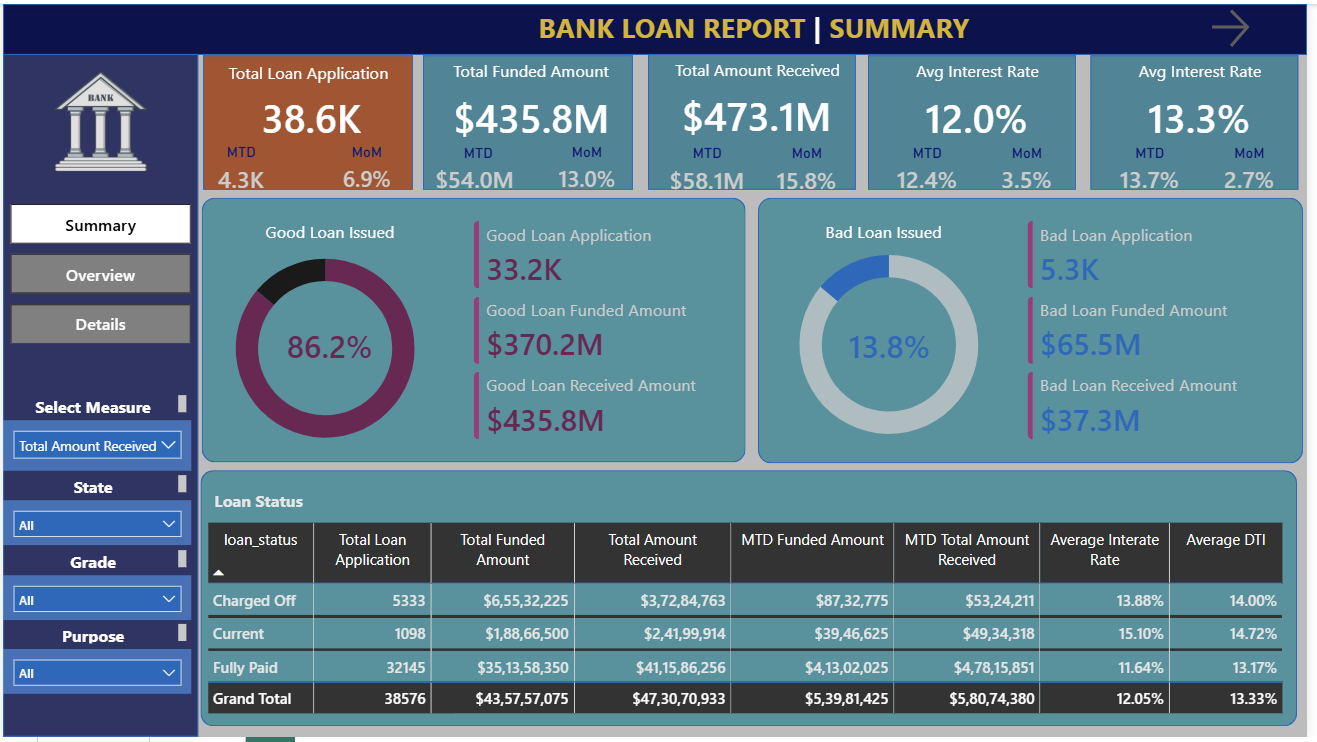

The dashboard page shown, as its layout file describes it:
{"tool":"powerbi","page":{"name":"Summary","canvas":[1280,720],"ordinal":0},"visuals":[{"type":"shape","box":[633.2,49.1,204.1,133.2],"z":0,"group":"g5"},{"type":"shape","box":[412.2,50,206,132.3],"z":0,"group":"g1"},{"type":"shape","box":[849.4,50,204.1,132.3],"z":0,"group":"g6"},{"type":"shape","box":[195.9,50.3,206.1,132.3],"z":0,"group":"g2"},{"type":"shape","box":[1068,51,204.1,132.3],"z":0,"group":"g7"},{"type":"shape","box":[193.9,457.9,1076.4,251.4],"z":0},{"type":"textbox","box":[0,458.1,184.8,29.2],"z":0,"group":"g8"},{"type":"textbox","box":[0,531.1,184.8,29.2],"z":0,"group":"g10"},{"type":"textbox","box":[0,604,184.8,29.2],"z":0,"group":"g9"},{"type":"shape","box":[0,0,1280,50],"z":1000},{"type":"cardVisual","fields":{"Data":["bank_loan_data.Total Amount Received"]},"box":[648.5,81,184.4,54.9],"z":1000,"group":"g5"},{"type":"cardVisual","fields":{"Data":["bank_loan_data.Total Funded Amount"]},"box":[425.7,81.7,186.1,54.5],"z":1000,"group":"g1"},{"type":"cardVisual","fields":{"Data":["bank_loan_data.Average Interate Rate"]},"box":[864.7,81.7,184.4,54.5],"z":1000,"group":"g6"},{"type":"cardVisual","fields":{"Data":["bank_loan_data.Total Loan Application"]},"box":[209.4,82,186.2,54.5],"z":1000,"group":"g2"},{"type":"cardVisual","fields":{"Data":["bank_loan_data.Average DTI"]},"box":[1083.3,82.7,184.4,54.5],"z":1000,"group":"g7"},{"type":"slicer","fields":{"Values":["bank_loan_data.address_state"]},"box":[0,487.3,184.8,43.8],"z":1000,"group":"g8"},{"type":"slicer","fields":{"Values":["bank_loan_data.grade"]},"box":[0,560.3,184.8,43.8],"z":1000,"group":"g10"},{"type":"slicer","fields":{"Values":["bank_loan_data.purpose"]},"box":[0,633.2,184.8,43.8],"z":1000,"group":"g9"},{"type":"textbox","box":[636.7,47.7,208.1,33.3],"z":2000,"group":"g5"},{"type":"textbox","box":[413.7,48.6,210,33.1],"z":2000,"group":"g1"},{"type":"textbox","box":[852.9,48.6,208.1,33.1],"z":2000,"group":"g6"},{"type":"textbox","box":[1071.5,49.6,208.1,33.1],"z":2000,"group":"g7"},{"type":"textbox","box":[202.8,50.9,192.6,36],"z":2000,"group":"g2"},{"type":"shape","box":[195.5,190.6,534,259.7],"z":2000},{"type":"shape","box":[0,49.6,191.6,670.2],"z":3000},{"type":"cardVisual","title":"MTD ","fields":{"Data":["bank_loan_data.MTD Loan Application"]},"box":[197.4,136.5,72.7,45.7],"z":3000,"group":"g2"},{"type":"cardVisual","title":"MTD ","fields":{"Data":["bank_loan_data.MTD Total Amount Received"]},"box":[640,137.2,101.6,45.1],"z":3000,"group":"g5"},{"type":"cardVisual","title":"MTD ","fields":{"Data":["bank_loan_data.MTD Funded Amount"]},"box":[412.4,137.5,108.5,44.7],"z":3000,"group":"g1"},{"type":"cardVisual","title":"MTD ","fields":{"Data":["bank_loan_data.MTD Average Int Rate"]},"box":[856.2,137.5,101.6,44.7],"z":3000,"group":"g6"},{"type":"cardVisual","title":"MTD ","fields":{"Data":["bank_loan_data.MTD Average DTI"]},"box":[1074.8,138.5,101.6,44.7],"z":3000,"group":"g7"},{"type":"cardVisual","title":"MoM","fields":{"Data":["bank_loan_data.MoM Total Funded Amount"]},"box":[535.1,136.1,76.6,45.7],"z":4000,"group":"g1"},{"type":"cardVisual","title":"MoM","fields":{"Data":["bank_loan_data.MoM loan Application"]},"box":[318.9,136.5,76.7,45.7],"z":4000,"group":"g2"},{"type":"cardVisual","title":"MoM","fields":{"Data":["bank_loan_data.MoM Total Amount Received"]},"box":[744.6,137.2,88.7,45.1],"z":4000,"group":"g5"},{"type":"cardVisual","title":"MoM","fields":{"Data":["bank_loan_data.MoM Avg Int Rate"]},"box":[960.8,137.5,88.7,44.7],"z":4000,"group":"g6"},{"type":"cardVisual","title":"MoM","fields":{"Data":["bank_loan_data.MoM Avg DTI"]},"box":[1179.4,138.5,88.7,44.7],"z":4000,"group":"g7"},{"type":"cardVisual","fields":{"Data":["bank_loan_data.Good Loan %"]},"box":[259.7,308.3,121.6,51.6],"z":4000},{"type":"textbox","box":[215.9,207.2,210.1,33.1],"z":5000},{"type":"textbox","box":[193.6,0,1086.4,49.6],"z":6000},{"type":"group","id":"g1","title":"Group 2","box":[412.2,48.6,211.5,133.6],"z":6503,"group":"g4"},{"type":"group","id":"g2","title":"Group 2","box":[195.9,50.3,206.1,132.3],"z":6503,"group":"g3"},{"type":"group","id":"g3","title":"Group 1","box":[195.9,50.3,206.1,132.3],"z":7000},{"type":"group","id":"g4","title":"Group 1","box":[412.2,48.6,212,133.3],"z":8000},{"type":"group","id":"g5","title":"Group 2","box":[633.2,47.7,212,134.2],"z":9000},{"type":"group","id":"g6","title":"Group 2","box":[849.4,48.6,212,134.2],"z":10000},{"type":"tableEx","fields":{"Values":["bank_loan_data.loan_status","bank_loan_data.Total Loan Application","bank_loan_data.Total Funded Amount","bank_loan_data.Total Amount Received","bank_loan_data.MTD Funded Amount","bank_loan_data.MTD Total Amount Received","bank_loan_data.Average Interate Rate","bank_loan_data.Average DTI"]},"box":[195.5,504.8,1068.9,197.4],"z":11000},{"type":"group","id":"g7","title":"Group 2","box":[1068,49.6,212,134.2],"z":12000},{"type":"shape","box":[741.2,190.6,535,260.7],"z":13000},{"type":"slicer","fields":{"Values":["Select Measure.Select Measure"]},"box":[0,408.5,184.8,49.6],"z":13000,"group":"g11"},{"type":"donutChart","fields":{"Category":["bank_loan_data.Good Vs Bad Loan"],"Y":["bank_loan_data.Total Loan Application"]},"box":[191.6,223.7,250,229.5],"z":14000},{"type":"textbox","box":[0,379.3,184.8,29.2],"z":14000,"group":"g11"},{"type":"cardVisual","fields":{"Data":["bank_loan_data.Good Loan Application","bank_loan_data.Good Loan Funded Amount","bank_loan_data.Good Loan Received Amount"]},"box":[445.5,196.5,271.4,248],"z":15000},{"type":"donutChart","fields":{"Category":["bank_loan_data.Good Vs Bad Loan"],"Y":["bank_loan_data.Total Loan Application"]},"box":[745,219.8,250,229.5],"z":16000},{"type":"textbox","box":[759.6,207.2,210.1,33.1],"z":17000},{"type":"cardVisual","fields":{"Data":["bank_loan_data.Bad Loan %"]},"box":[809.2,308.3,121.6,51.6],"z":18000},{"type":"cardVisual","fields":{"Data":["bank_loan_data.Bad Loan Application","bank_loan_data.Bad Loan Funded Amount","bank_loan_data.Bad Loan Received Amount"]},"box":[989.2,196.5,271.4,248],"z":19000},{"type":"textbox","box":[202.3,471.7,210.1,33.1],"z":20000},{"type":"group","id":"g8","title":"Group 3","box":[0,458.1,184.8,72.9],"z":21000},{"type":"group","id":"g9","title":"Group 3","box":[0,604,184.8,72.9],"z":22000},{"type":"group","id":"g10","title":"Group 3","box":[0,531.1,184.8,72.9],"z":23000},{"type":"pageNavigator","box":[7.8,196.5,177,138.1],"z":24000},{"type":"image","box":[0,50.6,191.6,129.4],"z":25000},{"type":"group","id":"g11","title":"Group 4","box":[0,379.3,184.8,78.8],"z":26000},{"type":"actionButton","box":[1179.8,0,100.2,47.7],"z":27000}]}

Visuals, with their boxes in screenshot pixels (x1, y1, x2, y2), scaled from the page's 1280x720 canvas onto the 1317x742 screenshot:
shape: 652, 51, 862, 188
shape: 424, 52, 636, 188
shape: 874, 52, 1084, 188
shape: 202, 52, 414, 188
shape: 1099, 53, 1309, 189
shape: 200, 472, 1307, 731
textbox: 0, 472, 190, 502
textbox: 0, 547, 190, 577
textbox: 0, 622, 190, 653
shape: 0, 0, 1316, 52
cardVisual - bank_loan_data.Total Amount Received: 667, 83, 857, 140
cardVisual - bank_loan_data.Total Funded Amount: 438, 84, 629, 140
cardVisual - bank_loan_data.Average Interate Rate: 890, 84, 1079, 140
cardVisual - bank_loan_data.Total Loan Application: 215, 85, 407, 141
cardVisual - bank_loan_data.Average DTI: 1115, 85, 1304, 141
slicer - bank_loan_data.address_state: 0, 502, 190, 547
slicer - bank_loan_data.grade: 0, 577, 190, 623
slicer - bank_loan_data.purpose: 0, 653, 190, 698
textbox: 655, 49, 869, 83
textbox: 426, 50, 642, 84
textbox: 878, 50, 1092, 84
textbox: 1102, 51, 1316, 85
textbox: 209, 52, 407, 90
shape: 201, 196, 751, 464
shape: 0, 51, 197, 741
"MTD " cardVisual: 203, 141, 278, 188
"MTD " cardVisual: 658, 141, 763, 188
"MTD " cardVisual: 424, 142, 536, 188
"MTD " cardVisual: 881, 142, 985, 188
"MTD " cardVisual: 1106, 143, 1210, 189
"MoM" cardVisual: 551, 140, 629, 187
"MoM" cardVisual: 328, 141, 407, 188
"MoM" cardVisual: 766, 141, 857, 188
"MoM" cardVisual: 989, 142, 1080, 188
"MoM" cardVisual: 1213, 143, 1305, 189
cardVisual - bank_loan_data.Good Loan %: 267, 318, 392, 371
textbox: 222, 214, 438, 248
textbox: 199, 0, 1316, 51
"Group 2" group: 424, 50, 642, 188
"Group 2" group: 202, 52, 414, 188
"Group 1" group: 202, 52, 414, 188
"Group 1" group: 424, 50, 642, 187
"Group 2" group: 652, 49, 870, 187
"Group 2" group: 874, 50, 1092, 188
tableEx - bank_loan_data.loan_status x bank_loan_data.Total Loan Application: 201, 520, 1301, 724
"Group 2" group: 1099, 51, 1316, 189
shape: 763, 196, 1313, 465
slicer - Select Measure.Select Measure: 0, 421, 190, 472
donutChart - bank_loan_data.Good Vs Bad Loan x bank_loan_data.Total Loan Application: 197, 231, 454, 467
textbox: 0, 391, 190, 421
cardVisual - bank_loan_data.Good Loan Application x bank_loan_data.Good Loan Funded Amount: 458, 203, 738, 458
donutChart - bank_loan_data.Good Vs Bad Loan x bank_loan_data.Total Loan Application: 767, 227, 1024, 463
textbox: 782, 214, 998, 248
cardVisual - bank_loan_data.Bad Loan %: 833, 318, 958, 371
cardVisual - bank_loan_data.Bad Loan Application x bank_loan_data.Bad Loan Funded Amount: 1018, 203, 1297, 458
textbox: 208, 486, 424, 520
"Group 3" group: 0, 472, 190, 547
"Group 3" group: 0, 622, 190, 698
"Group 3" group: 0, 547, 190, 622
pageNavigator: 8, 203, 190, 345
image: 0, 52, 197, 185
"Group 4" group: 0, 391, 190, 472
actionButton: 1214, 0, 1316, 49
